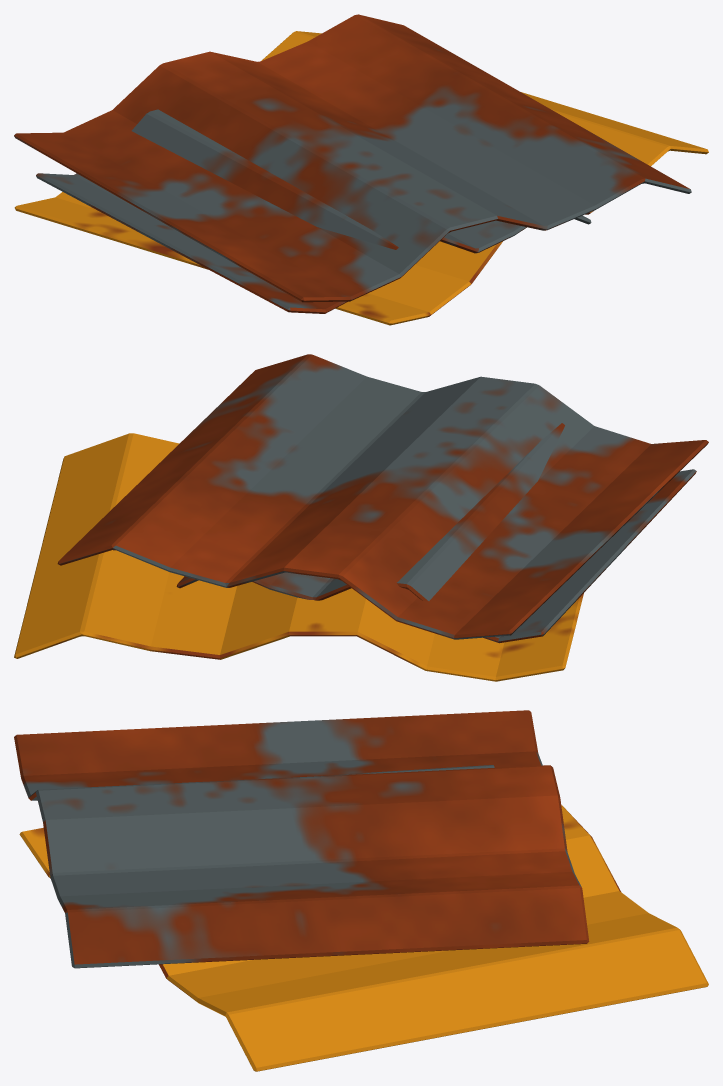
The model's file is sheets-41.glb.
3 renders of one model, top to bottom at view 1: azimuth 30°, elevation 25°; view 2: azimuth 150°, elevation 25°; view 3: azimuth 270°, elevation 25°, orthographic. The views are drawn at different scales.
Visible parts, largest first — view 1: sheets-41; view 2: sheets-41; view 3: sheets-41.
Part boxes in pixels (x1,y1,x2,y2): sheets-41: (14, 14, 708, 325); sheets-41: (14, 354, 708, 681); sheets-41: (14, 710, 708, 1071).
Size of the model in its own units: 0.9239 by 0.1339 by 0.8789.
2 materials, 2 textured.
